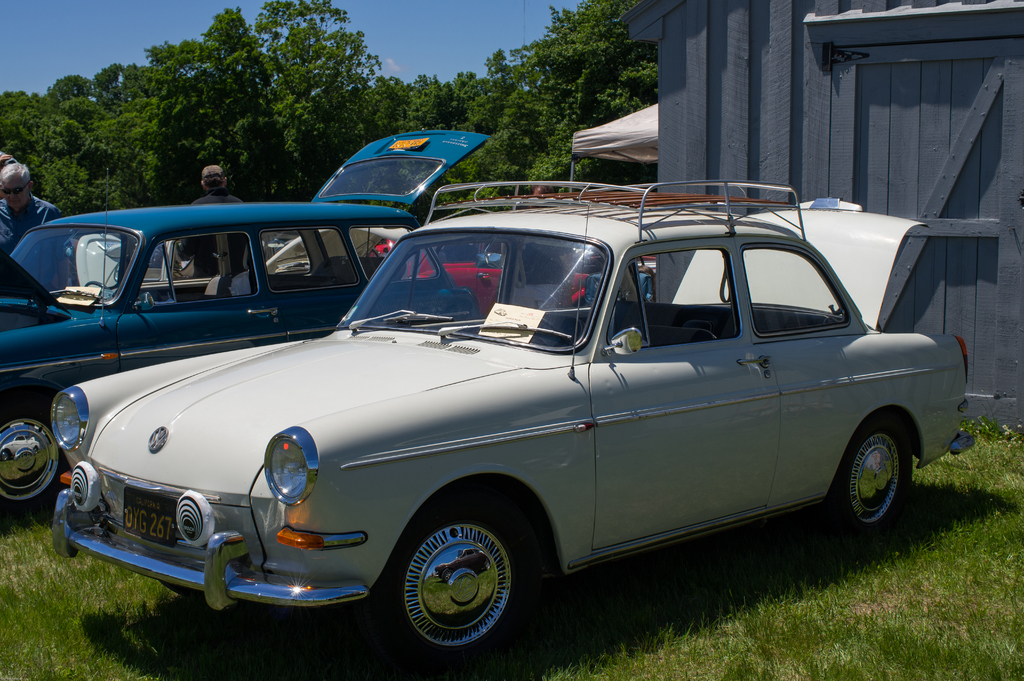Car: (35, 173, 974, 666), (8, 115, 483, 507), (398, 215, 657, 303)
